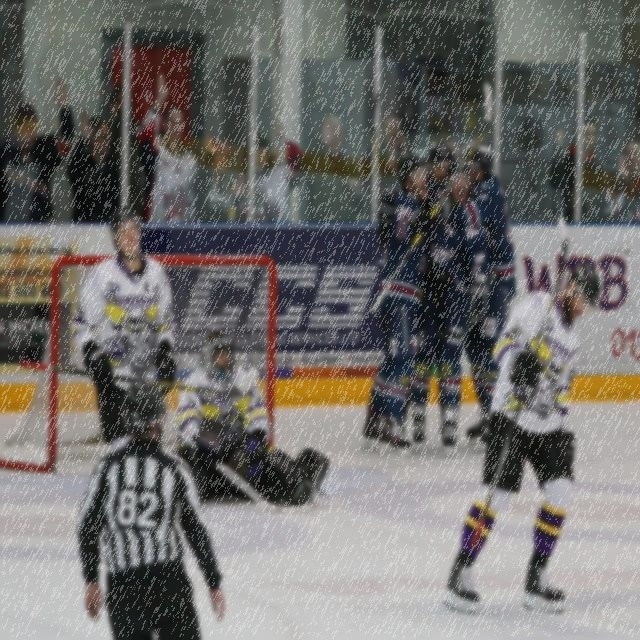pessoa: (438, 214, 602, 621), (73, 376, 229, 640), (430, 136, 521, 458), (176, 326, 331, 506), (69, 204, 180, 454), (377, 140, 454, 454), (380, 136, 458, 444), (410, 158, 490, 458), (0, 75, 76, 224), (134, 70, 198, 225), (235, 113, 308, 227), (499, 118, 574, 225), (300, 111, 366, 222), (548, 114, 610, 224), (361, 108, 418, 224), (104, 80, 148, 224), (66, 109, 121, 224), (598, 134, 640, 226), (192, 133, 232, 224)
